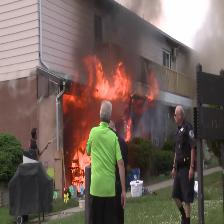fire: (53, 49, 162, 143), (59, 94, 94, 204)
smoke: (67, 0, 224, 77)
